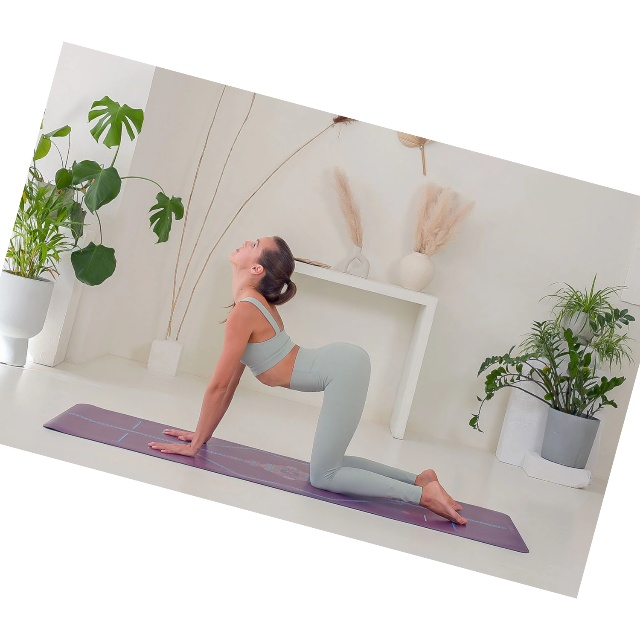Cow_Pose: (149, 236, 467, 525)
